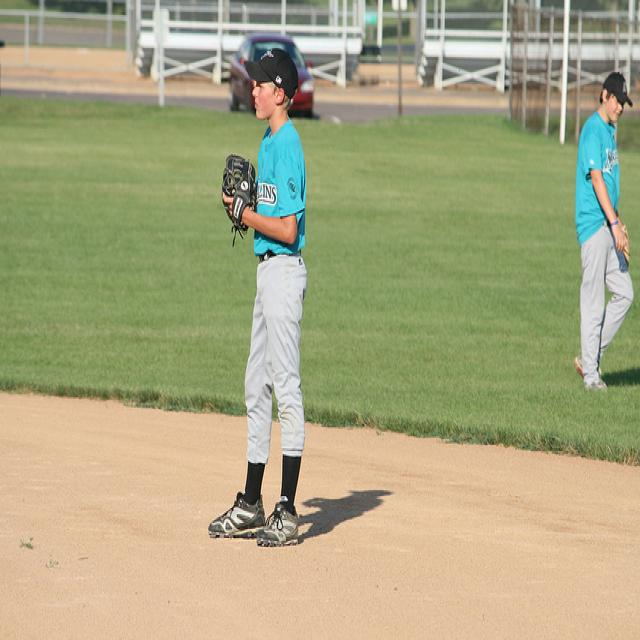Vehicle: (227, 36, 318, 114)
